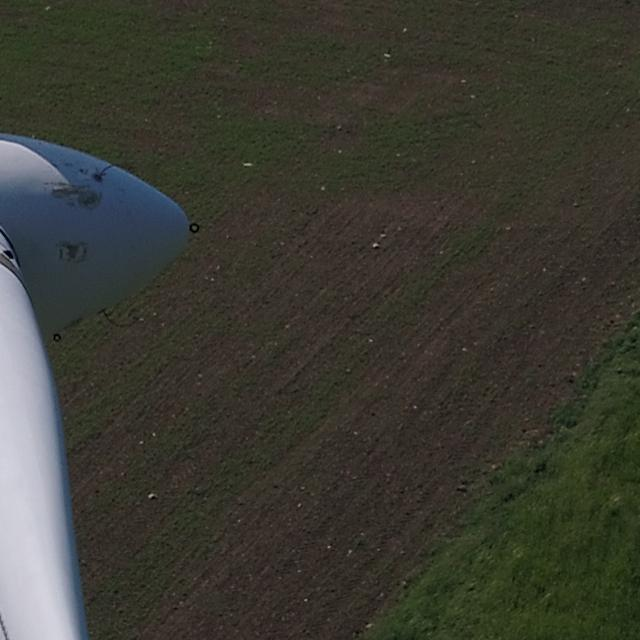damage: (77, 189, 105, 213), (61, 243, 84, 262)
